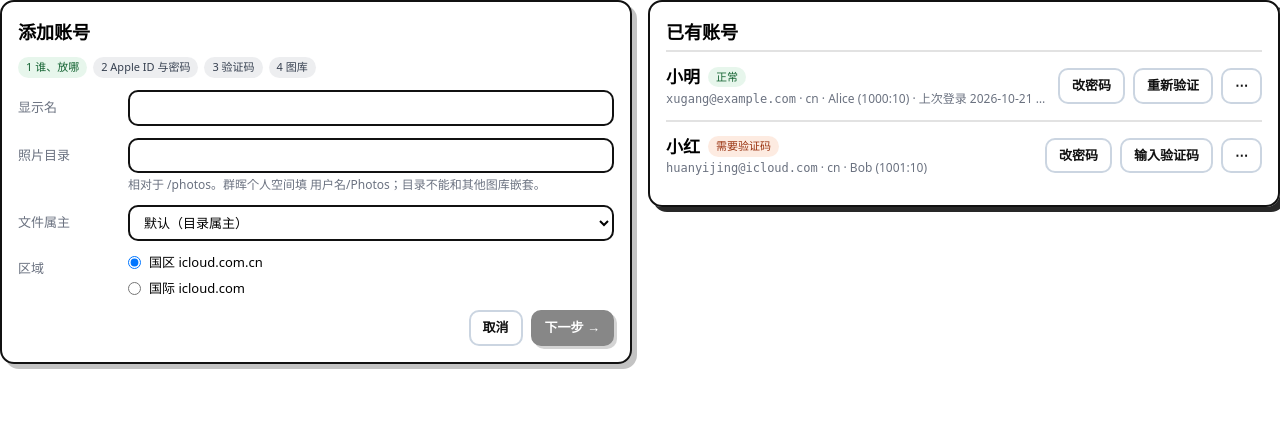
it: Accounts page › delete dialog sends keep_dir=false only when the trash option is chosen
Click the button named "更多" at point(1242, 86), box 1221,68 -> 1262,104
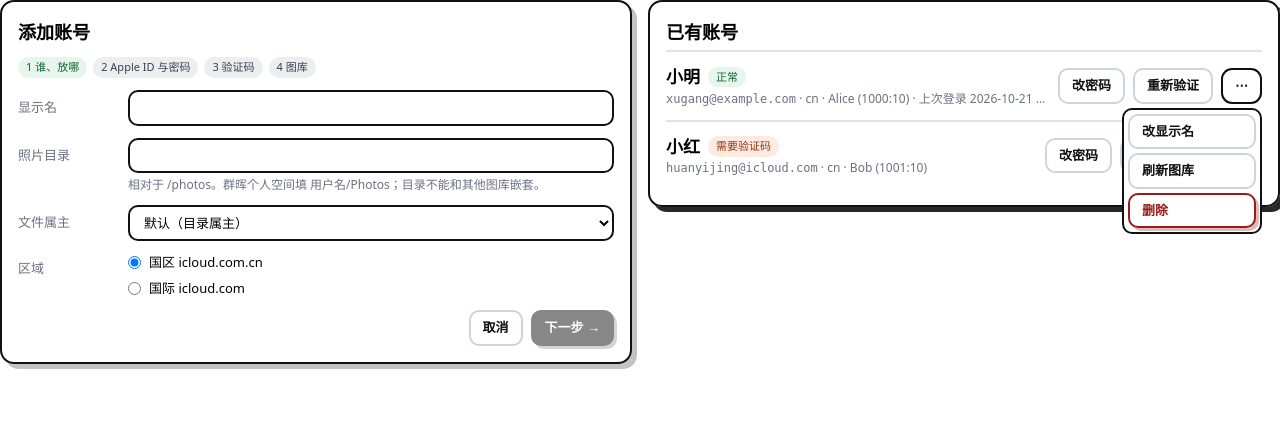
Click the button "删除" at point(1192, 210), box 1128,192 -> 1256,228
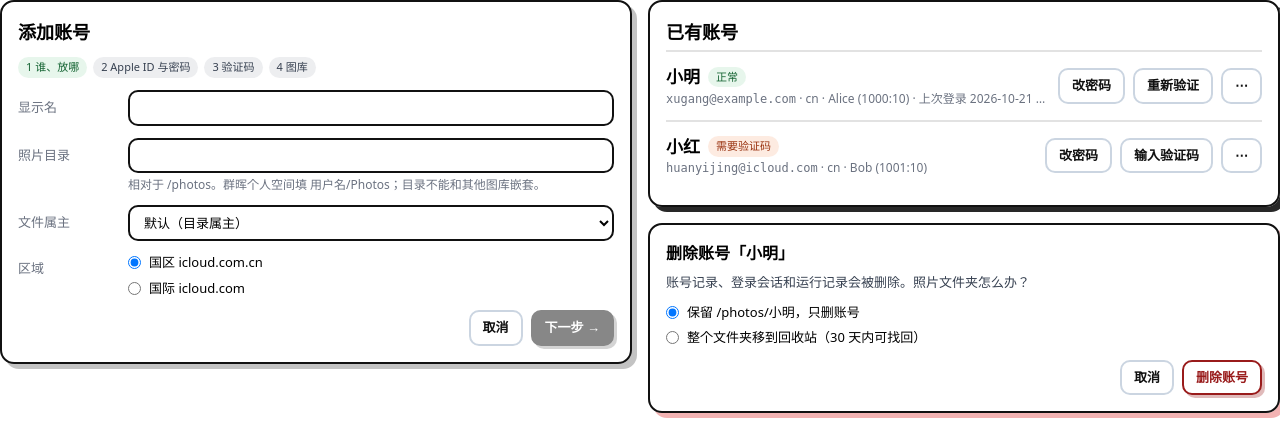
Result: the radio button labelled "保留 /photos/小明，只删账号" is checked at 666,306 -> 679,319
Click the button "删除账号" at point(1222, 377), box 1182,360 -> 1262,395
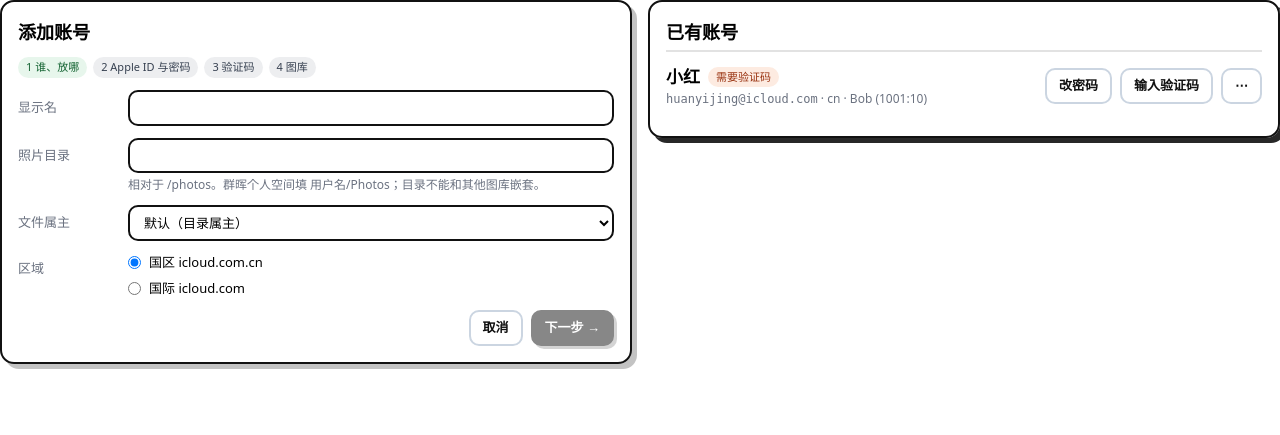
Result: the text "小明" is gone
